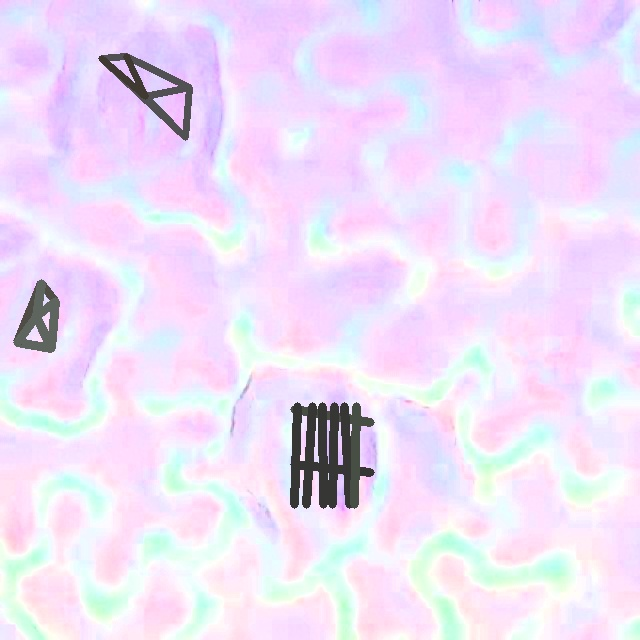close: (13, 279, 59, 352)
open: (291, 403, 374, 508), (98, 53, 192, 140)
